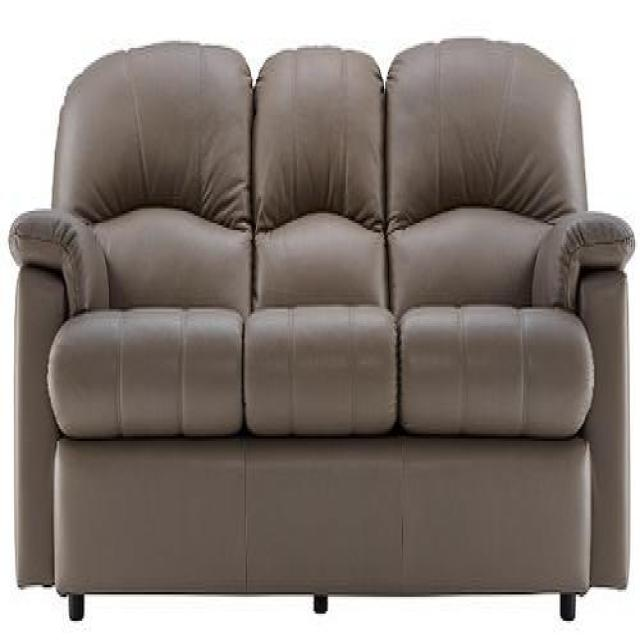sofa: (3, 35, 634, 621)
